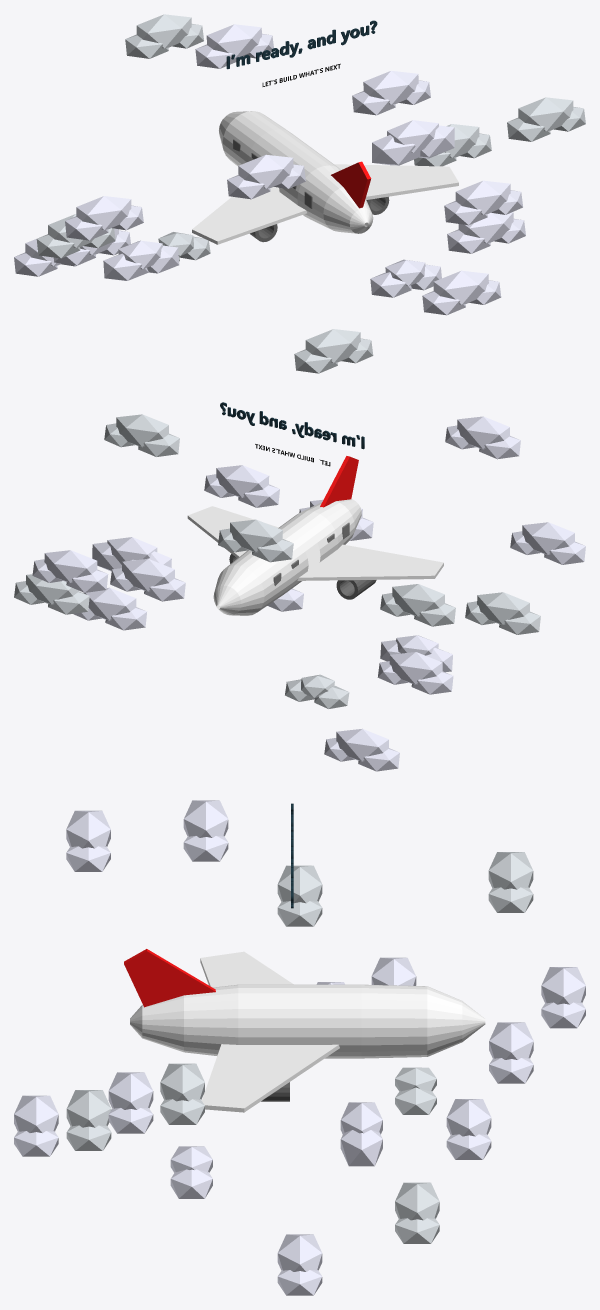
Rendered from ready.glb.
3 renders of one model, top to bottom at view 1: azimuth 30°, elevation 25°; view 2: azimuth 150°, elevation 25°; view 3: azimuth 270°, elevation 25°, orthographic. The views are drawn at different scales.
Visible parts, largest first — view 1: Avión · fuselaje con ventanilla hueca.001, Avión · ala cercana.001, Avión · ala.001, Cielo · nube.055, Cielo · nube.067, Cielo · nube.049, Cielo · nube.079, Cielo · nube.070, Cielo · nube.082, Cielo · nube.073, Cielo · nube.076, Cielo · nube.052 (+26 smaller); view 2: Avión · fuselaje con ventanilla hueca.001, Avión · ala cercana.001, Cielo · nube.049, Cielo · nube.061, Cielo · nube.052, Cielo · nube.055, Cielo · nube.073, Cielo · nube.058, Cielo · nube.079, Cielo · nube.082, Cielo · nube.064, Cielo · nube.067 (+26 smaller); view 3: Avión · fuselaje con ventanilla hueca.001, Avión · ala.001, Avión · deriva.001, Avión · ala cercana.001, Cielo · nube.046, Cielo · nube.070, Cielo · nube.082, Cielo · nube.043, Cielo · nube.067, Cielo · nube.079, Cielo · nube.076, Cielo · nube.058 (+25 smaller).
Boxes of the visible parts, bbox=[...] form: Avión · fuselaje con ventanilla hueca.001: bbox=[219, 111, 373, 233]; Avión · ala cercana.001: bbox=[192, 187, 306, 244]; Avión · ala.001: bbox=[334, 164, 458, 199]; Cielo · nube.055: bbox=[136, 14, 191, 48]; Cielo · nube.067: bbox=[76, 196, 131, 230]; Cielo · nube.049: bbox=[363, 70, 418, 104]; Cielo · nube.079: bbox=[455, 180, 510, 214]; Cielo · nube.070: bbox=[238, 154, 293, 188]; Cielo · nube.082: bbox=[518, 97, 573, 131]; Cielo · nube.073: bbox=[305, 329, 360, 363]; Cielo · nube.076: bbox=[433, 270, 488, 304]; Cielo · nube.052: bbox=[206, 24, 261, 58]; Avión · fuselaje con ventanilla hueca.001: bbox=[213, 499, 361, 615]; Avión · ala cercana.001: bbox=[297, 543, 443, 580]; Cielo · nube.049: bbox=[44, 550, 97, 582]; Cielo · nube.061: bbox=[389, 652, 442, 684]; Cielo · nube.052: bbox=[122, 558, 174, 591]; Cielo · nube.055: bbox=[230, 519, 282, 552]; Cielo · nube.073: bbox=[392, 584, 444, 616]; Cielo · nube.058: bbox=[336, 728, 388, 761]; Cielo · nube.079: bbox=[216, 465, 269, 497]; Cielo · nube.082: bbox=[116, 414, 168, 447]; Cielo · nube.064: bbox=[477, 592, 529, 624]; Cielo · nube.067: bbox=[522, 522, 574, 554]; Avión · fuselaje con ventanilla hueca.001: bbox=[130, 984, 485, 1058]; Avión · ala.001: bbox=[202, 1044, 339, 1112]; Avión · deriva.001: bbox=[124, 949, 215, 1007]; Avión · ala cercana.001: bbox=[200, 951, 293, 987]; Cielo · nube.046: bbox=[395, 1182, 439, 1220]; Cielo · nube.070: bbox=[66, 810, 110, 848]; Cielo · nube.082: bbox=[160, 1063, 204, 1101]; Cielo · nube.043: bbox=[277, 1234, 322, 1271]; Cielo · nube.067: bbox=[183, 800, 228, 837]; Cielo · nube.079: bbox=[108, 1072, 153, 1109]; Cielo · nube.076: bbox=[14, 1095, 58, 1133]; Cielo · nube.058: bbox=[489, 1022, 533, 1059].
Size of the model in its own units: 9.47 by 4.61 by 7.4.
